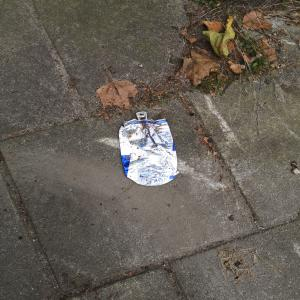Can: (116, 110, 183, 189)
